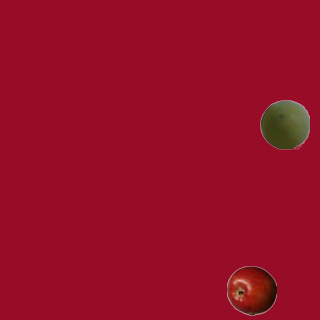Apple Braeburn: (226, 265, 276, 315)
Grape White 4: (259, 99, 309, 149)
